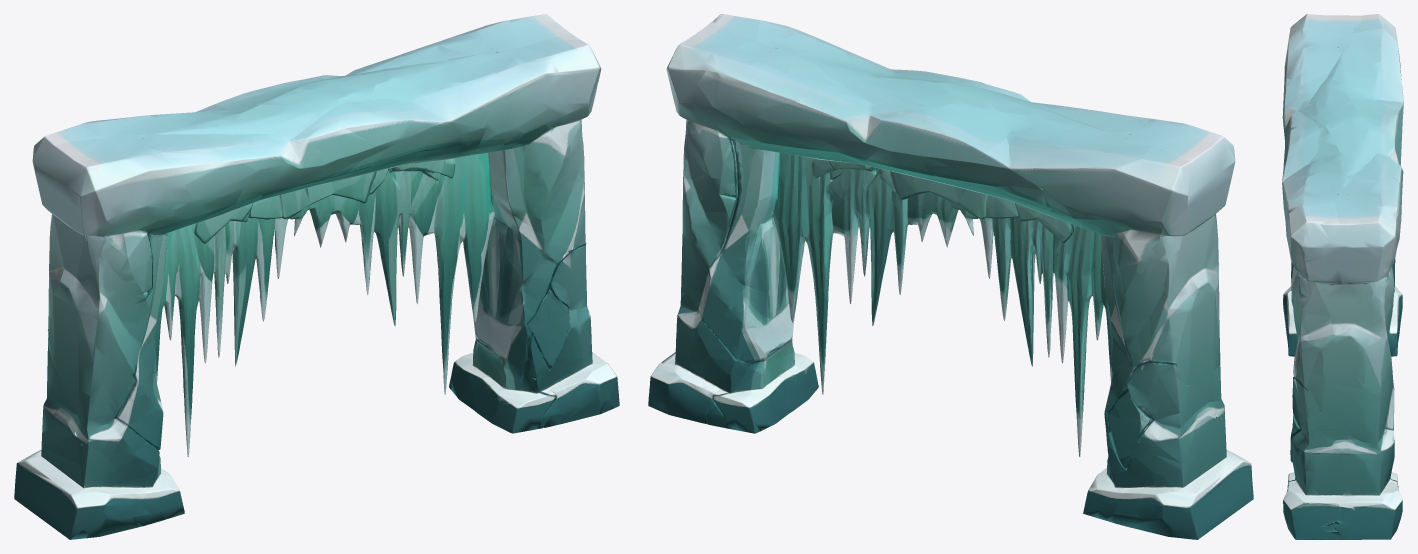
The model's file is icicle-gate.glb.
The picture shows the model from 3 angles, left to right: view 1: azimuth 30°, elevation 25°; view 2: azimuth 150°, elevation 25°; view 3: azimuth 270°, elevation 25°; orthographic projection. The views are drawn at different scales.
Bounding box in the file's own units: 1.9 × 1.2 × 0.4283.
Materials: 1 (1 with a texture image).
